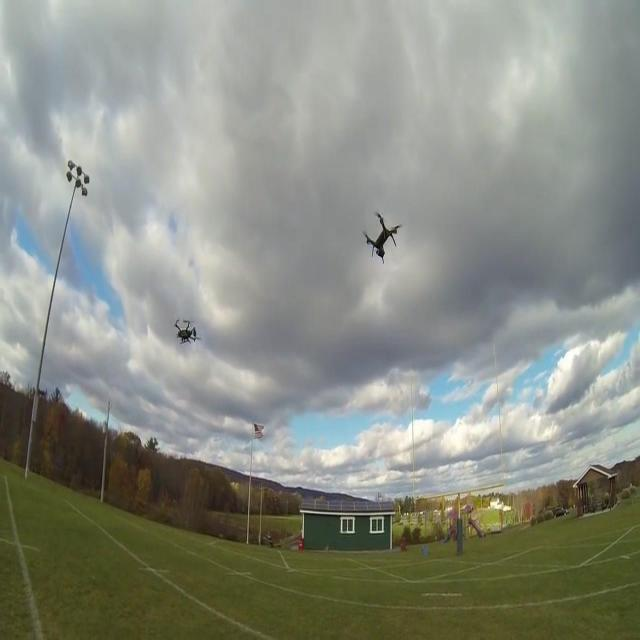UAV: (363, 212, 403, 264), (174, 319, 202, 345)
